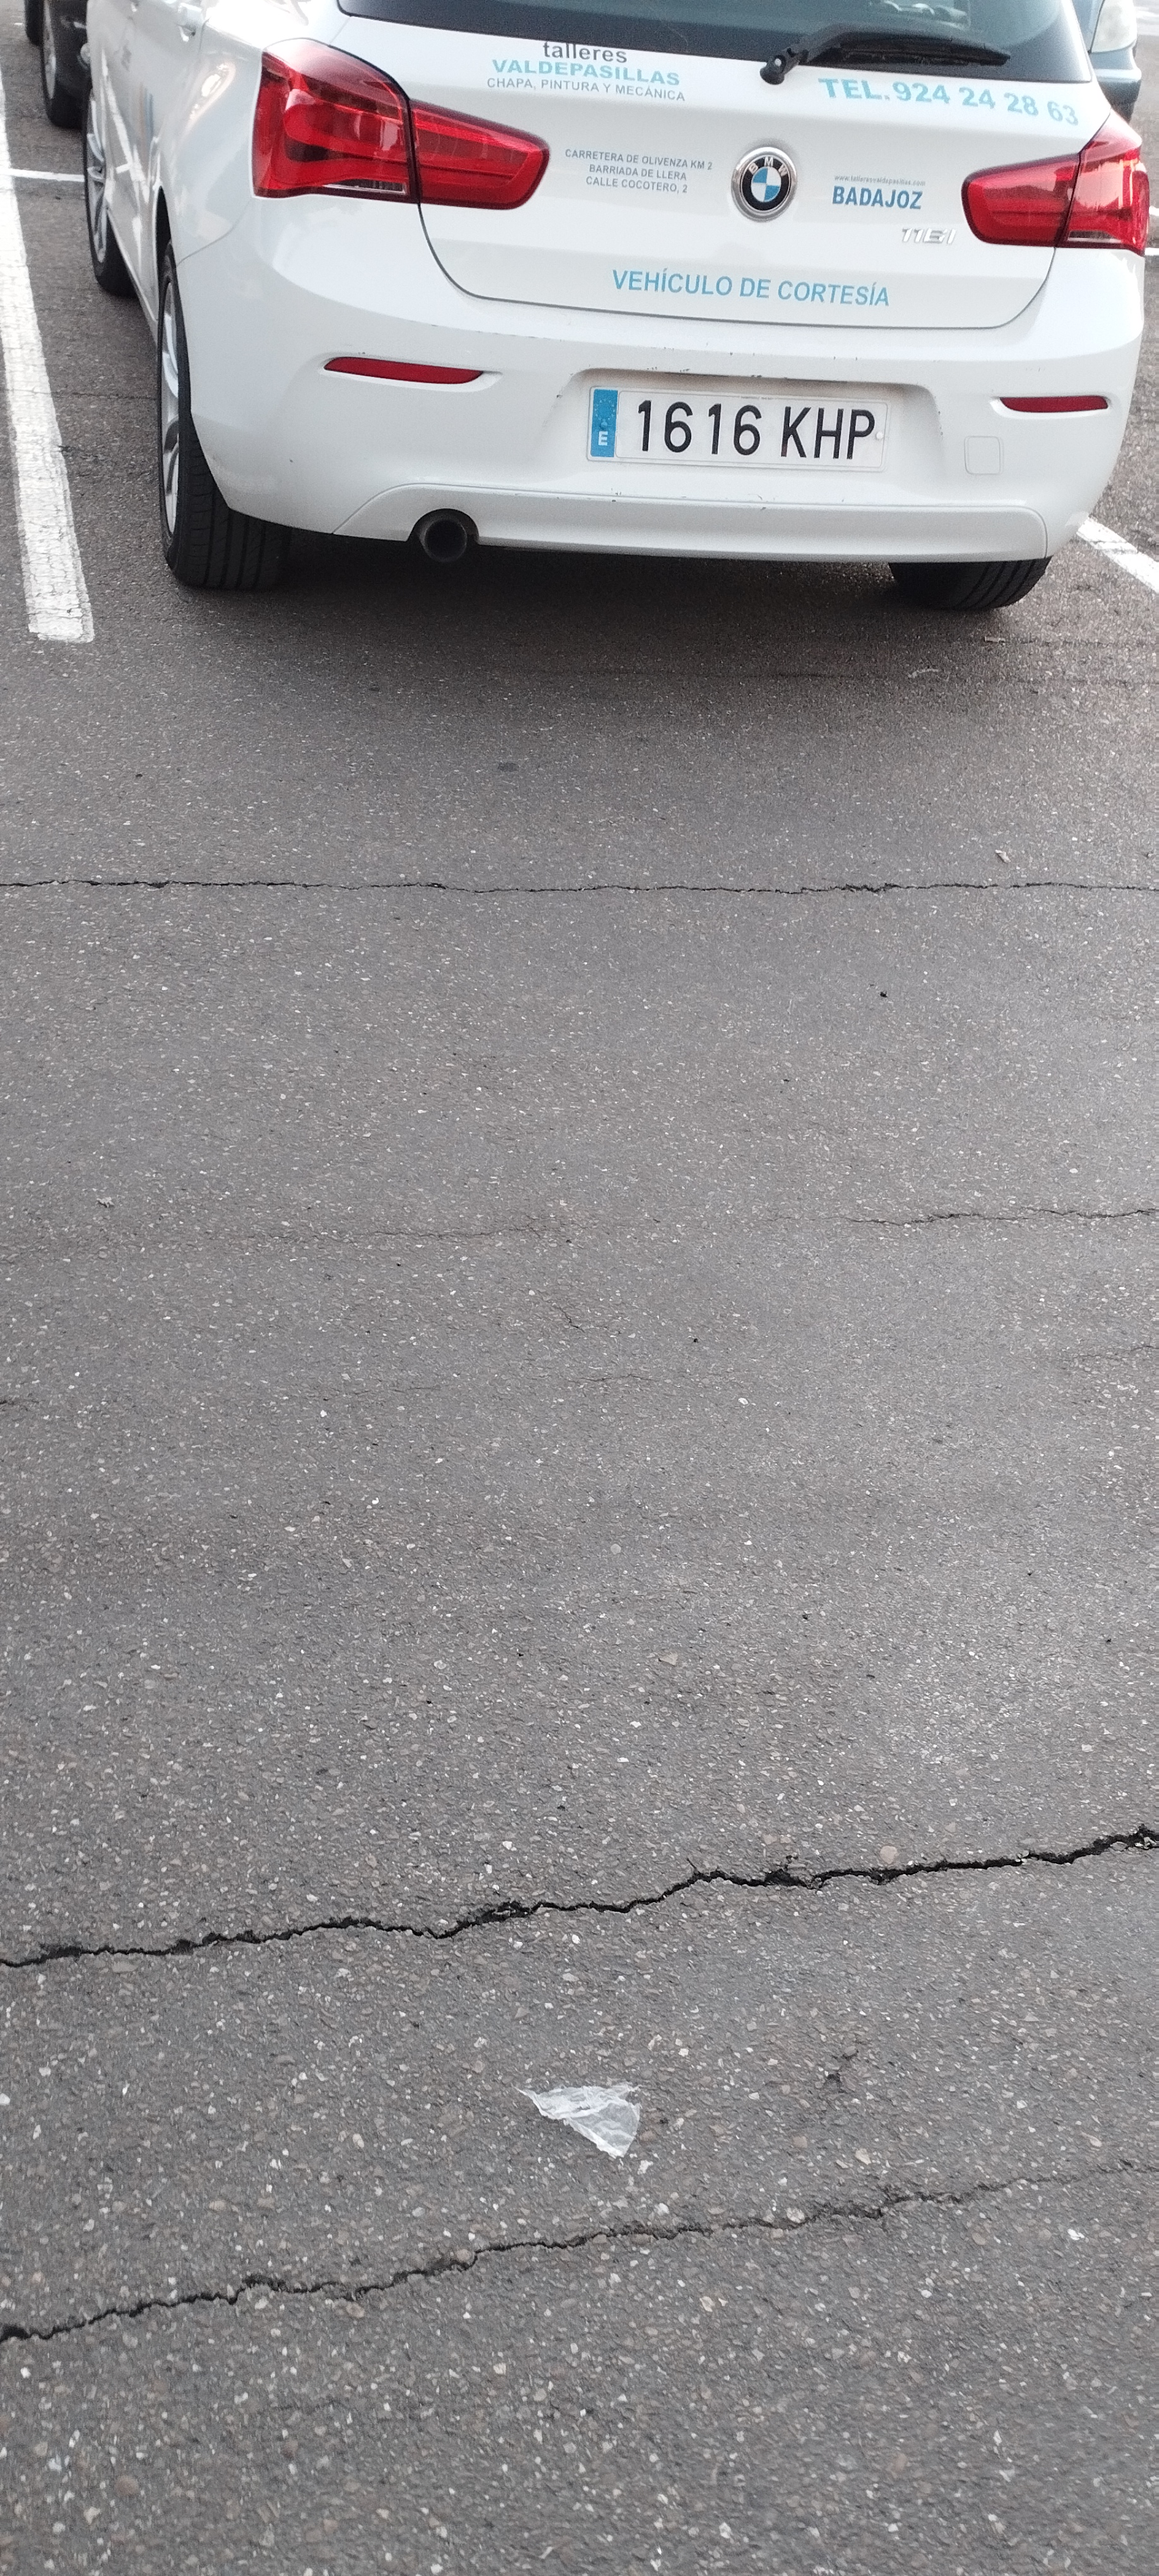Car: (64, 0, 1143, 609)
Plate: (586, 384, 891, 462)
